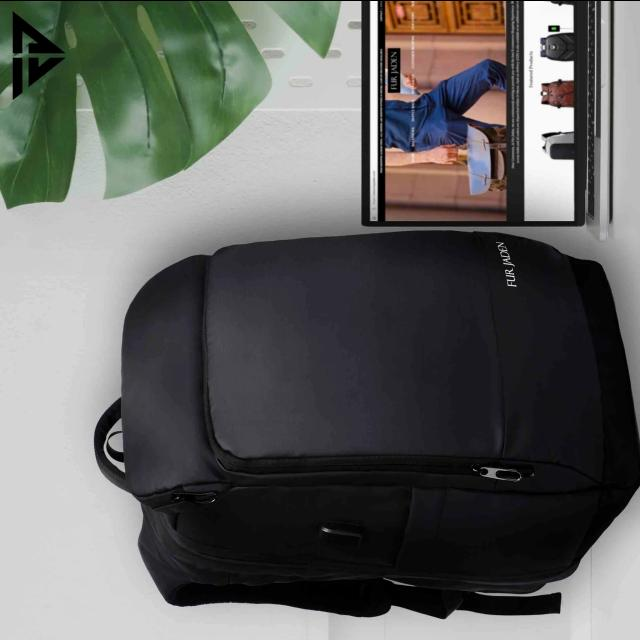backpack: (94, 230, 640, 619)
